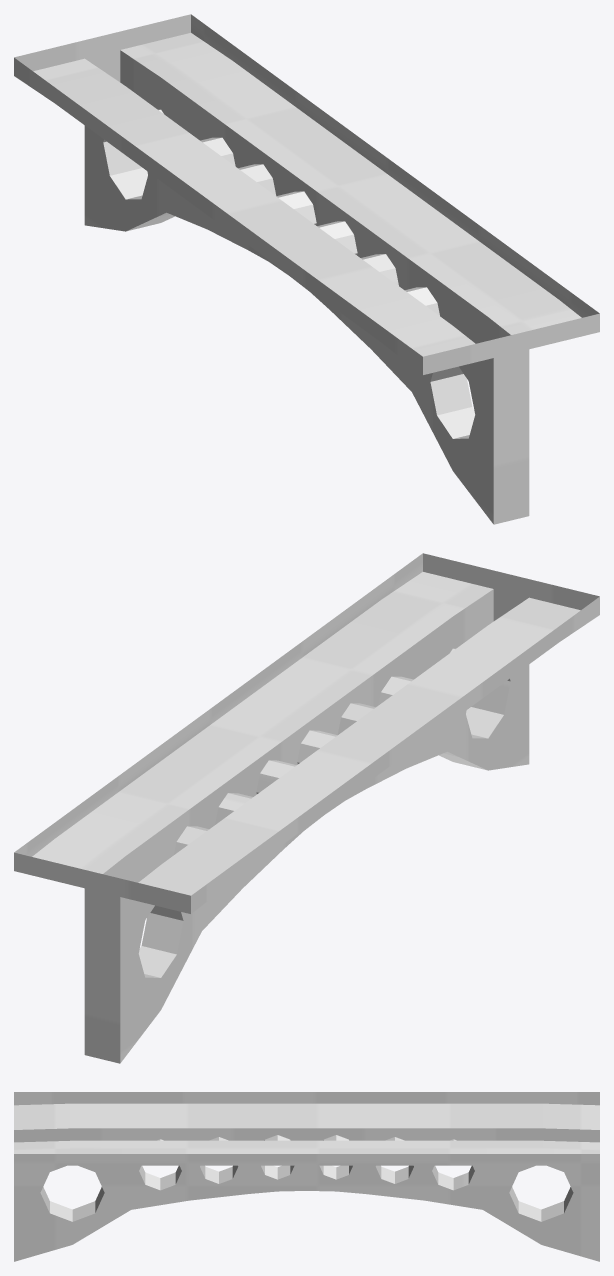
The model's file is enginehall_struss_short.fbx.
3 views of the same model, one above another, from view 1: azimuth 30°, elevation 25°; view 2: azimuth 150°, elevation 25°; view 3: azimuth 270°, elevation 25° (orthographic). The views are drawn at different scales.
Visible parts, largest first — view 1: enginehall_struss_short; view 2: enginehall_struss_short; view 3: enginehall_struss_short.
Part boxes in pixels (box(x1,y1,x2,y2)): enginehall_struss_short: box(14, 14, 599, 524); enginehall_struss_short: box(14, 553, 599, 1063); enginehall_struss_short: box(14, 1092, 599, 1261).
Bounding box in the file's own units: 50 × 50 × 200.
